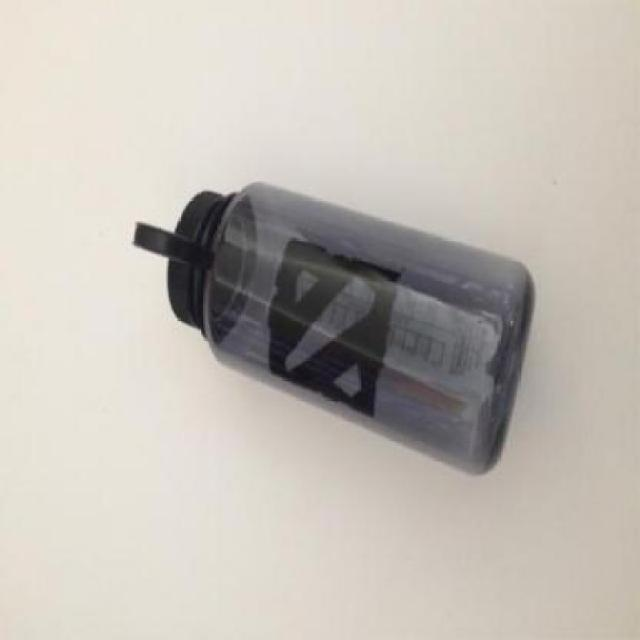Plastic: (131, 174, 536, 474)
